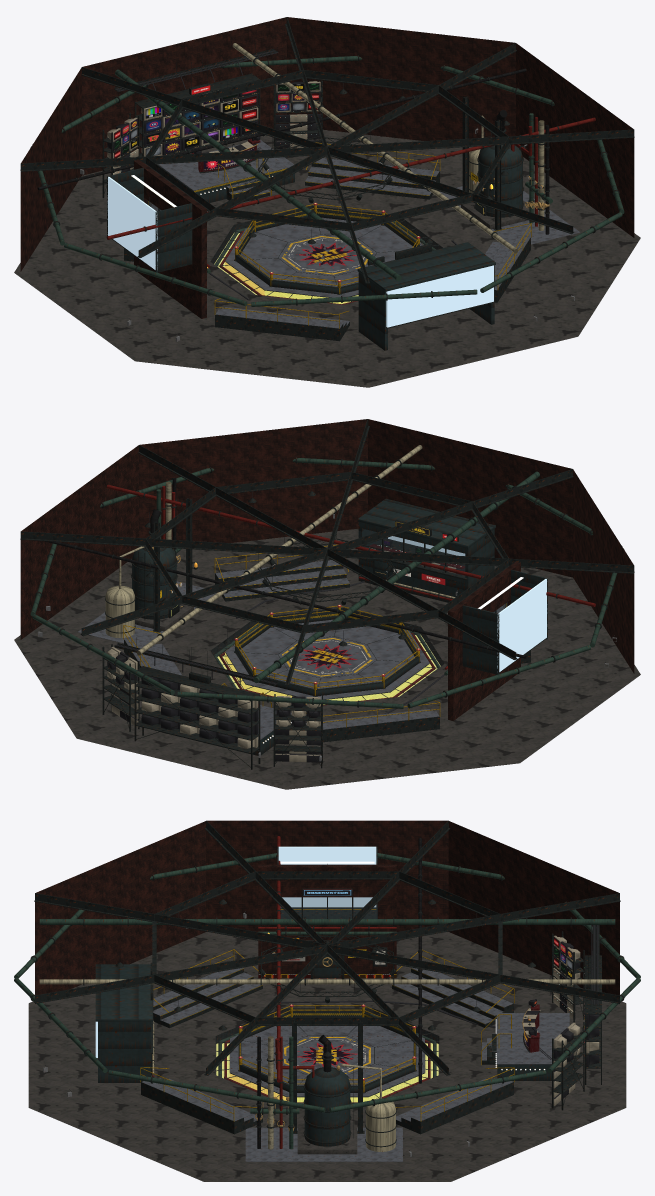
Rendered from control_room.glb.
3 views of the same model, one above another, from view 1: azimuth 30°, elevation 25°; view 2: azimuth 150°, elevation 25°; view 3: azimuth 270°, elevation 25° (orthographic). The views are drawn at different scales.
Parts seen in each view (by area): view 1: control_room_set; view 2: control_room_set; view 3: control_room_set.
Boxes of the visible parts, x1=… form: control_room_set: x1=14, y1=17, x2=640, y2=387; control_room_set: x1=14, y1=419, x2=640, y2=789; control_room_set: x1=14, y1=820, x2=640, y2=1181.
Size of the model in its own units: 39.87 by 8.4 by 39.87.
28 materials, 17 textured.
